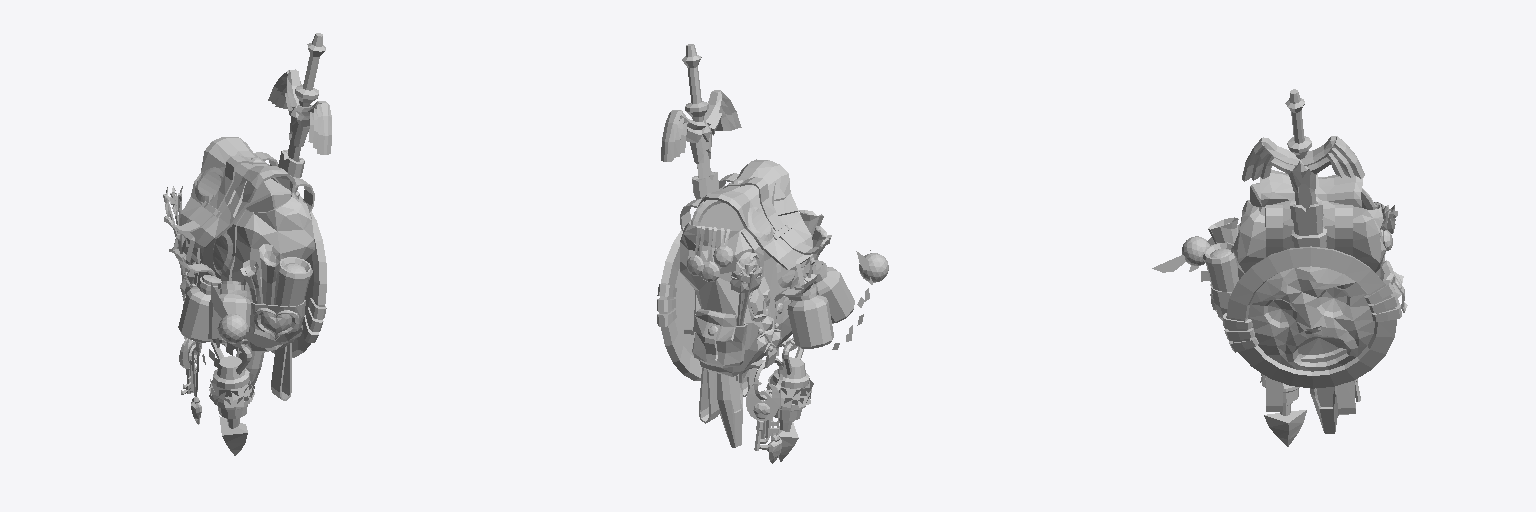
The model's file is Back.obj.
The picture shows the model from 3 angles: view 1: azimuth 30°, elevation 25°; view 2: azimuth 150°, elevation 25°; view 3: azimuth 270°, elevation 25°; orthographic projection.
Visible parts, largest first — view 1: Knapsack; view 2: Knapsack; view 3: Knapsack.
Boxes of the visible parts, box(x1,y1,x2,y2) form: Knapsack: box(163, 33, 331, 455); Knapsack: box(657, 44, 888, 463); Knapsack: box(1152, 89, 1407, 446).
Bounding box in the file's own units: 0.3672 × 0.907 × 0.5277.